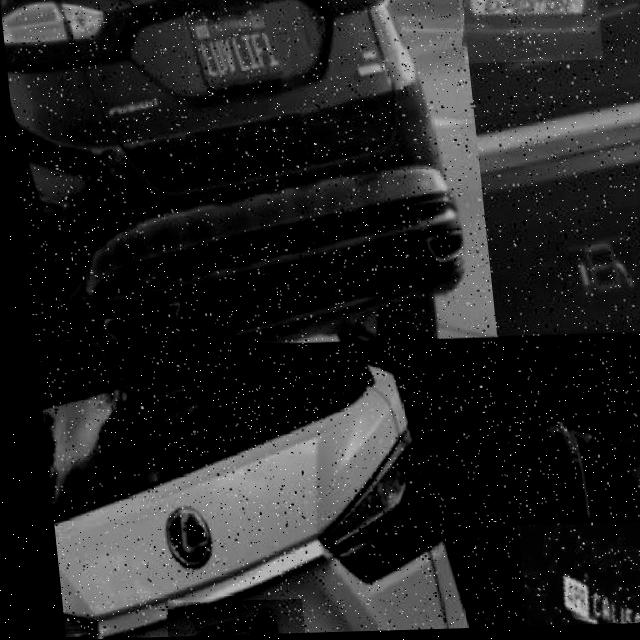LicensePlate: (506, 524, 640, 629), (181, 0, 292, 90), (457, 0, 602, 66), (151, 600, 291, 638)
